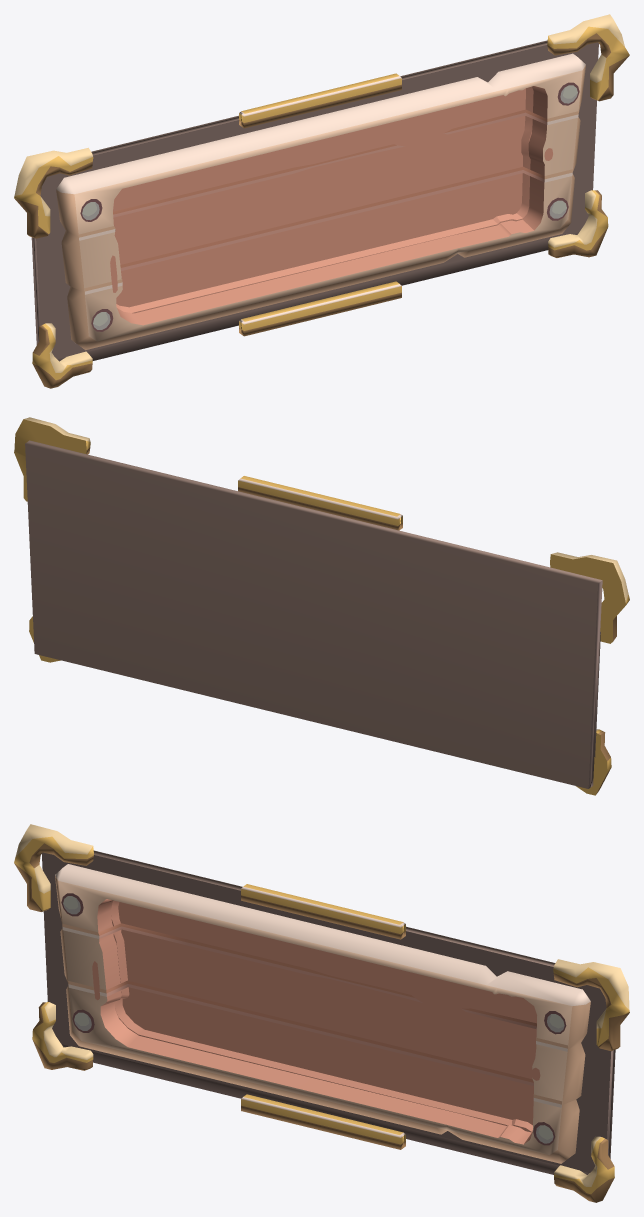
The model's file is Mesh_Adventure_RoadSign_Board_01_SM.fbx.
The picture shows the model from 3 angles, top to bottom: view 1: azimuth 30°, elevation 25°; view 2: azimuth 150°, elevation 25°; view 3: azimuth 330°, elevation 25°; orthographic projection.
Parts seen in each view (by area): view 1: Mesh_Adventure_RoadSign_Board_01; view 2: Mesh_Adventure_RoadSign_Board_01; view 3: Mesh_Adventure_RoadSign_Board_01.
Boxes of the visible parts, box(x1,y1,x2,y2) form: Mesh_Adventure_RoadSign_Board_01: box(14, 14, 629, 388); Mesh_Adventure_RoadSign_Board_01: box(14, 417, 629, 795); Mesh_Adventure_RoadSign_Board_01: box(14, 824, 629, 1202).
Bounding box in the file's own units: 105 × 38.46 × 5.44.
